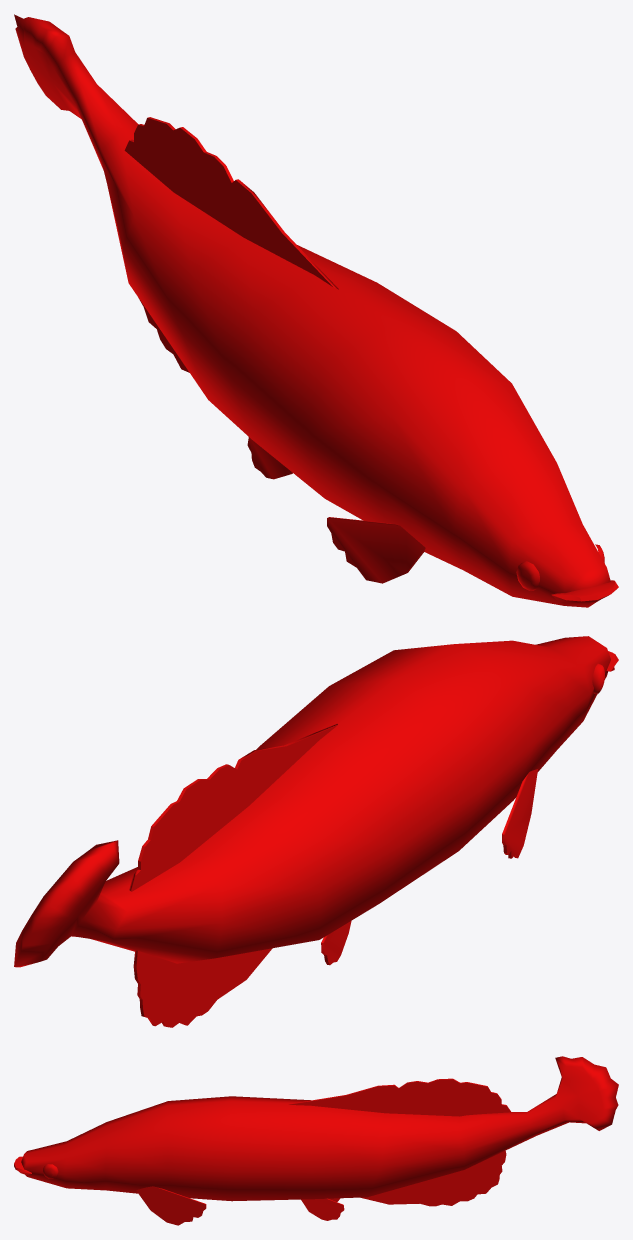
3 renders of one model, top to bottom at view 1: azimuth 30°, elevation 25°; view 2: azimuth 150°, elevation 25°; view 3: azimuth 270°, elevation 25°, orthographic. The views are drawn at different scales.
Visible parts, largest first — view 1: Fish_Arapaima; view 2: Fish_Arapaima; view 3: Fish_Arapaima.
Boxes of the visible parts, x1,y1,x2,y2 form: Fish_Arapaima: (14, 14, 618, 607); Fish_Arapaima: (14, 636, 618, 1027); Fish_Arapaima: (14, 1056, 618, 1225).
Size of the model in its own units: 0.1899 by 0.29 by 1.07.
